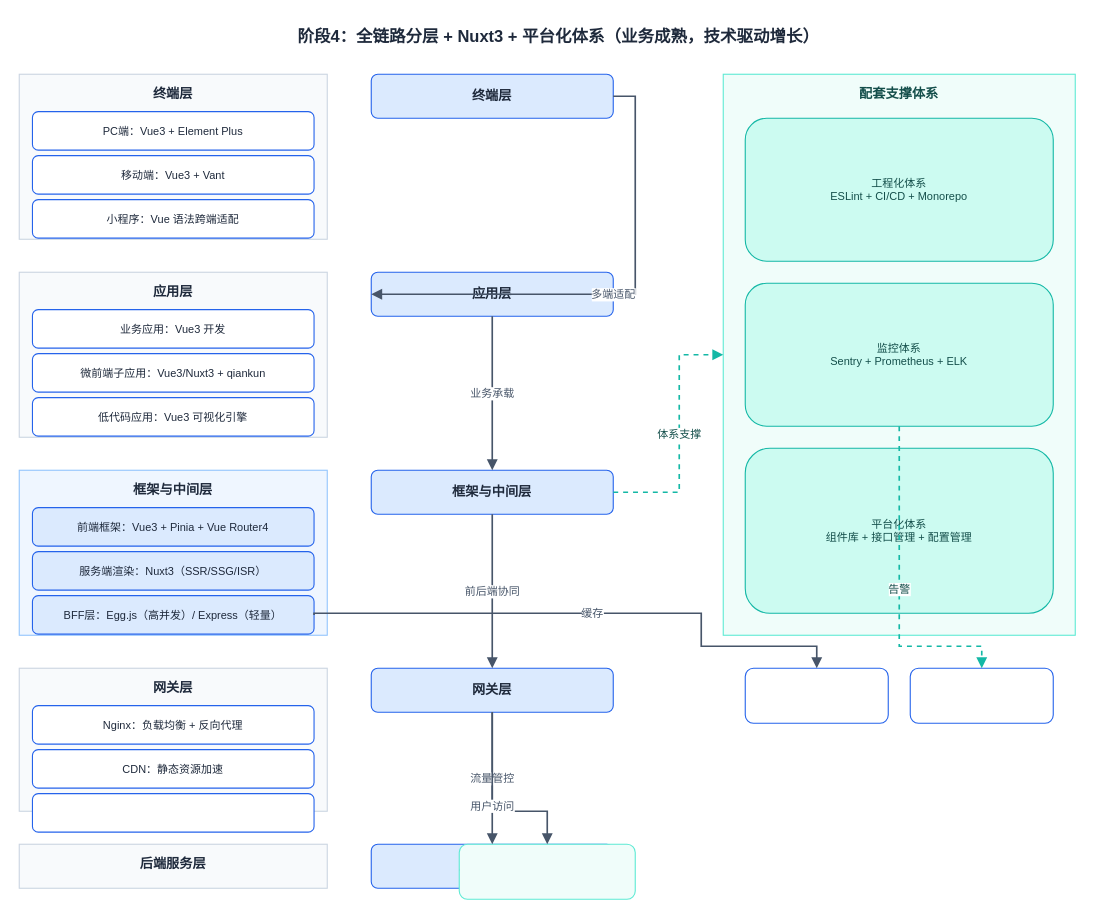
Image size: 1095x919. Some labels were removed from this diagram. The shapes that lost their labels are listed below. From the top down, each one's centre as x and y in pixels, then its label:
At point (816, 695): "Redis 缓存".
At point (981, 695): "告警通知 （邮件/钉钉）".
At point (172, 812): "WAF：网络安全防护".
At point (546, 871): "终端用户".
